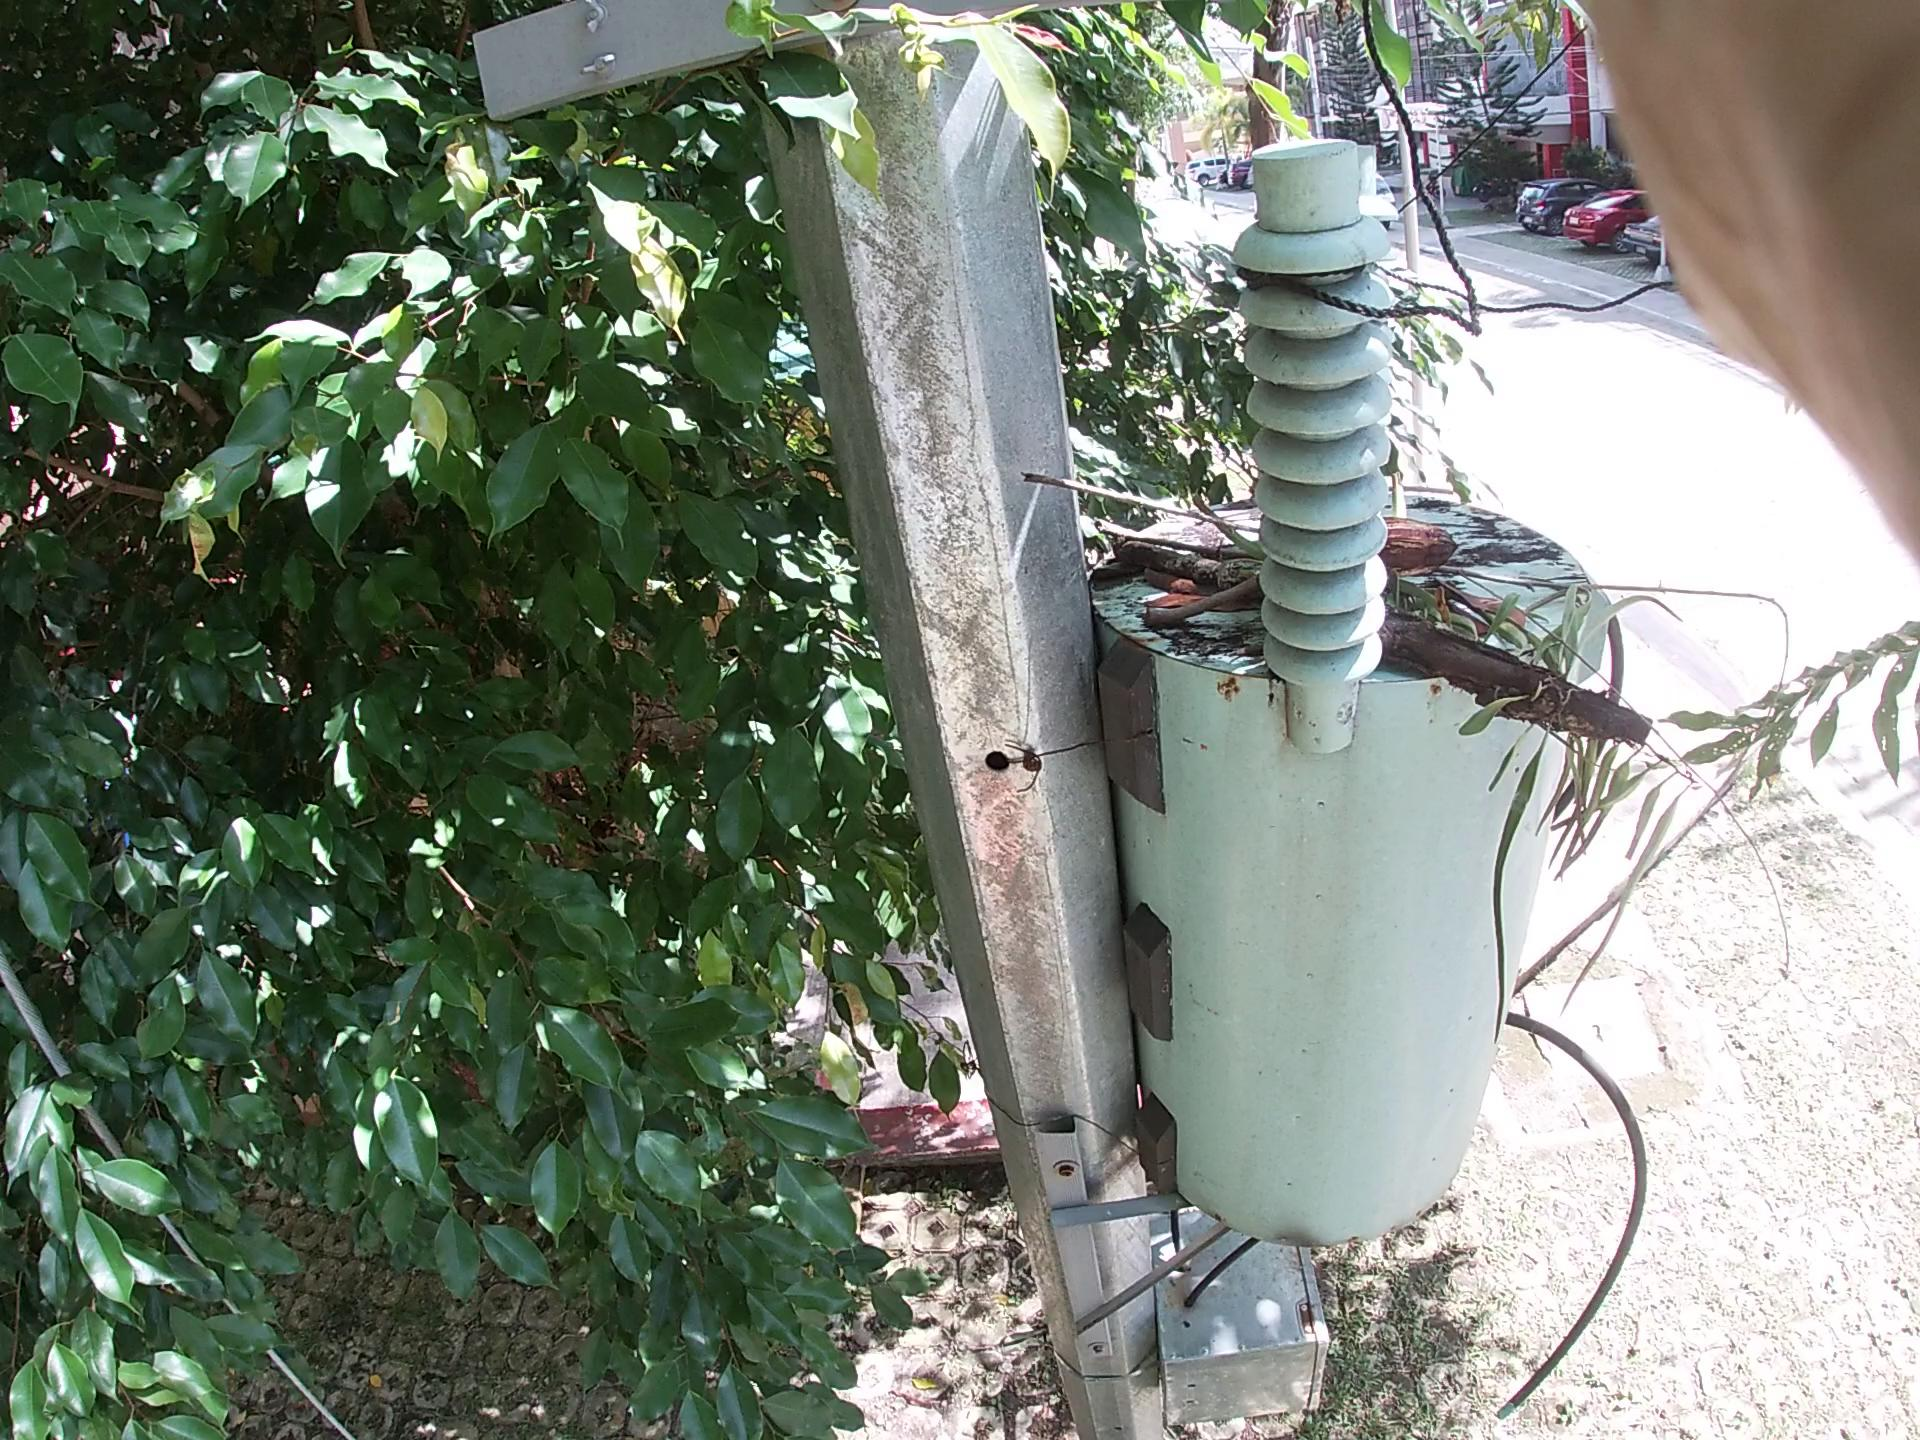branch with leaves: (1081, 469, 1648, 771)
leaf: (1123, 555, 1270, 640)
mahogany fruit: (1349, 461, 1465, 601)
tree branch: (1025, 473, 1761, 644), (1104, 573, 1277, 650)
